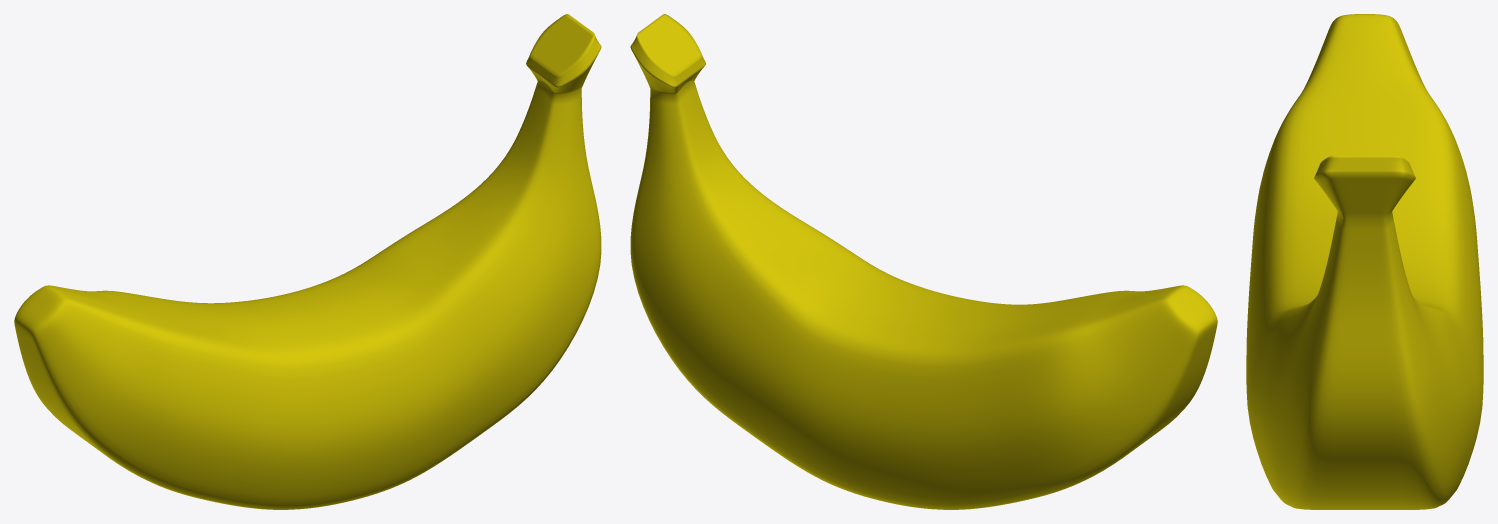
File: bannana_cartoon.dae
3 renders of one model, left to right at view 1: azimuth 30°, elevation 25°; view 2: azimuth 150°, elevation 25°; view 3: azimuth 270°, elevation 25°, orthographic. The views are drawn at different scales.
Visible parts, largest first — view 1: Cube_001; view 2: Cube_001; view 3: Cube_001.
Boxes of the visible parts, x1,y1,x2,y2 form: Cube_001: [14, 14, 601, 509]; Cube_001: [630, 14, 1217, 509]; Cube_001: [1246, 14, 1483, 509].
Size of the model in its own units: 8.56 by 2.59 by 5.66.
